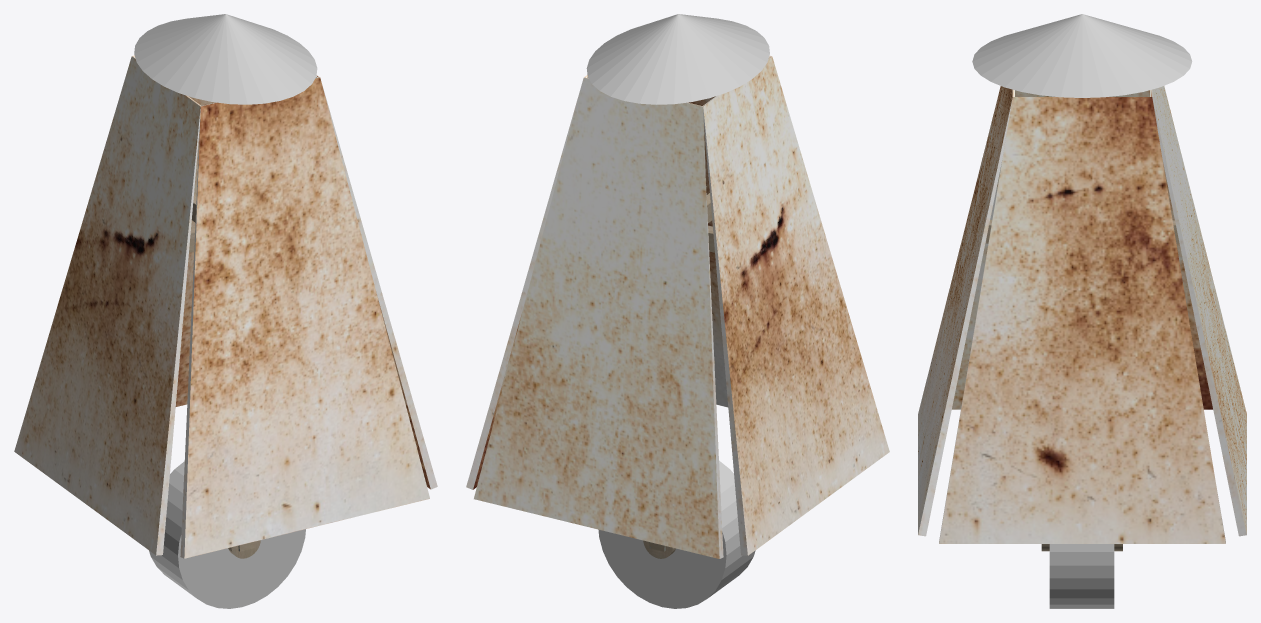
Rendered from lustro.obj.
3 views of the same model, side by side, from view 1: azimuth 30°, elevation 25°; view 2: azimuth 150°, elevation 25°; view 3: azimuth 270°, elevation 25° (orthographic).
Parts seen in each view (by area): view 1: Cube.005, Cone, Cylinder; view 2: Cube.005, Cone, Cylinder; view 3: Cube.005, Cone, Cylinder.
Part boxes in pixels (box(x1,y1,x2,y2)): Cube.005: box(14, 55, 437, 558); Cone: box(134, 14, 317, 104); Cylinder: box(149, 461, 305, 608); Cube.005: box(466, 55, 889, 558); Cone: box(586, 14, 769, 104); Cylinder: box(598, 460, 755, 608); Cube.005: box(918, 86, 1246, 543); Cone: box(972, 14, 1192, 97); Cylinder: box(1049, 544, 1114, 608).
Size of what is drawn, in the model's own units: 7.94 by 15.66 by 7.94.
